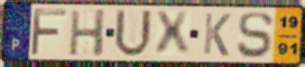F: (29, 7, 69, 58)
H: (67, 8, 108, 59)
K: (201, 11, 233, 58)
S: (236, 11, 275, 60)
U: (112, 7, 154, 60)
X: (153, 10, 192, 58)
